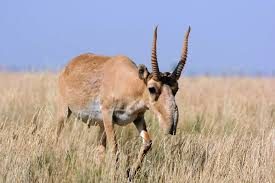saiga: (54, 24, 191, 183)
